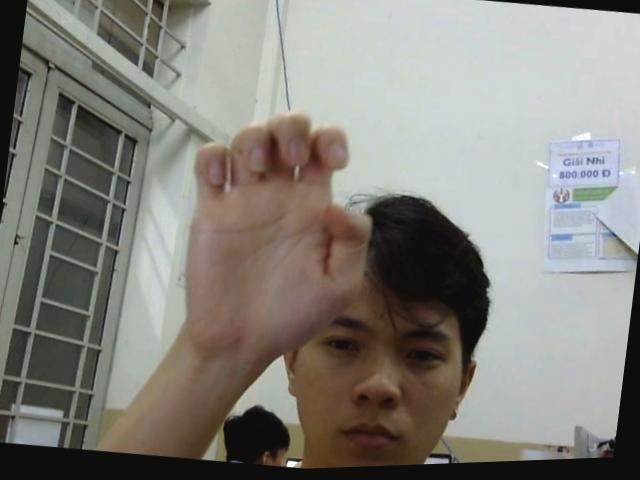E: (168, 96, 380, 373)
